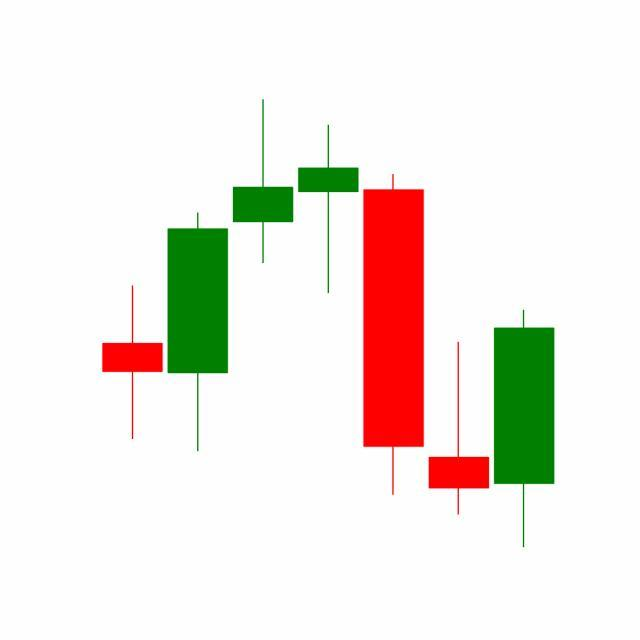Morning Star: (360, 170, 556, 549)
